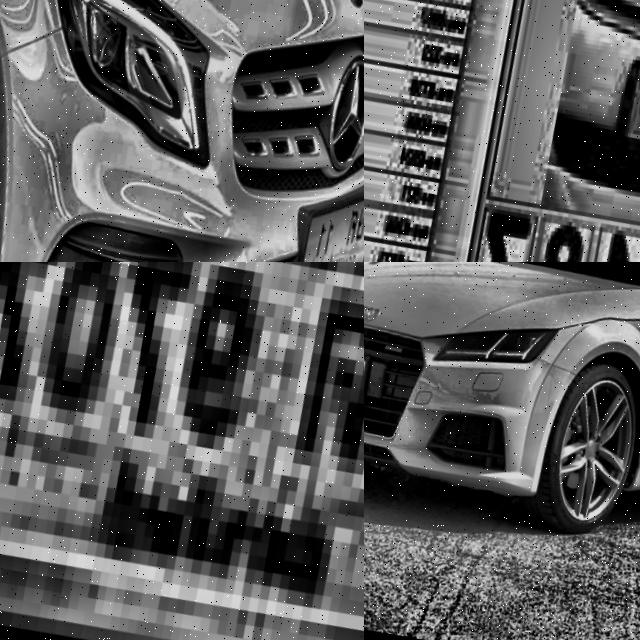license-plate: (0, 262, 364, 640), (263, 172, 364, 262), (586, 37, 640, 204)
